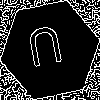U: (25, 25, 67, 76)
